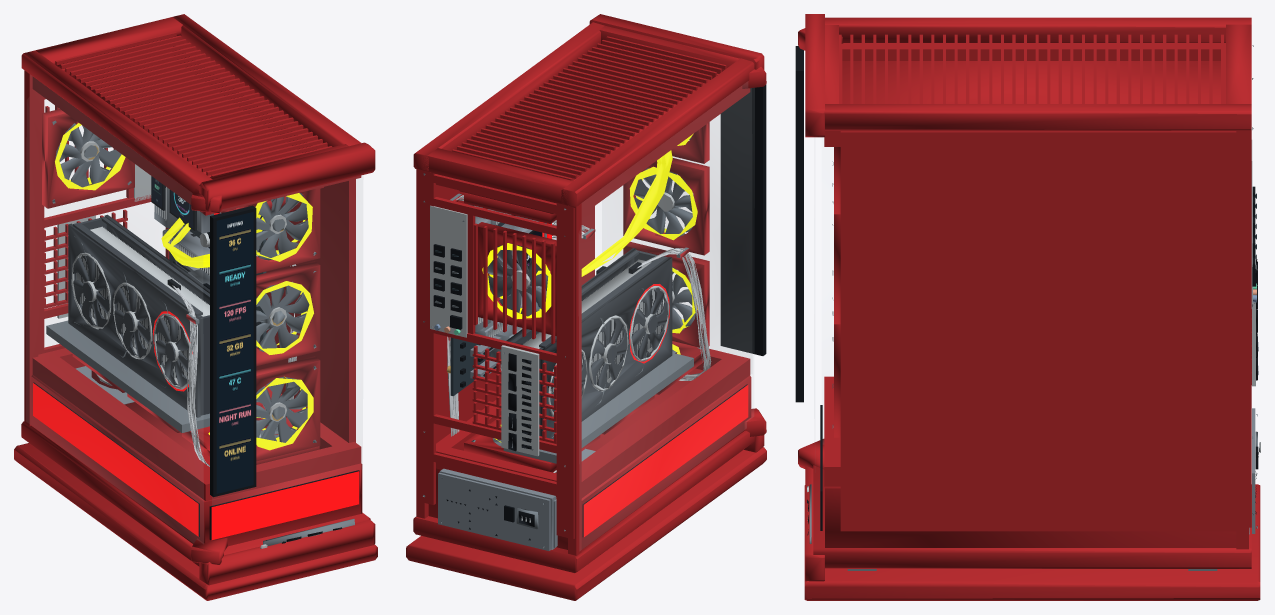
Rendered from display88-inferno.glb.
3 renders of one model, left to right at view 1: azimuth 30°, elevation 25°; view 2: azimuth 150°, elevation 25°; view 3: azimuth 270°, elevation 25°, orthographic. The views are drawn at different scales.
Visible parts, largest first — view 1: s83-surface-51fc9ba0-1fe5-4776-9724-dfc0da7f3cba, s83-surface-54ddc808-bf7c-4199-aeae-895a74d2a820, s83-surface-a512da68-8bdf-4b66-84d2-2f99324f5558, s83-surface-cb61b6f4-cf3e-4b9b-a66b-7c7c9251d378, s83-fan-1, s83-fan-2, s83-surface-f7f7c7cd-a846-41ff-a03b-7536405f7773; view 2: s83-surface-51fc9ba0-1fe5-4776-9724-dfc0da7f3cba, s83-surface-bcb48c46-d35c-497a-858b-b11939c96b49, s83-surface-54ddc808-bf7c-4199-aeae-895a74d2a820, s83-surface-cb61b6f4-cf3e-4b9b-a66b-7c7c9251d378, s83-fan-2; view 3: s83-surface-51fc9ba0-1fe5-4776-9724-dfc0da7f3cba.
Part boxes in pixels (x1,y1,x2,y2): s83-surface-51fc9ba0-1fe5-4776-9724-dfc0da7f3cba: (14, 14, 377, 600); s83-surface-54ddc808-bf7c-4199-aeae-895a74d2a820: (33, 213, 359, 539); s83-surface-a512da68-8bdf-4b66-84d2-2f99324f5558: (216, 212, 253, 493); s83-surface-cb61b6f4-cf3e-4b9b-a66b-7c7c9251d378: (55, 123, 313, 450); s83-fan-1: (73, 255, 111, 329); s83-fan-2: (113, 284, 152, 359); s83-surface-f7f7c7cd-a846-41ff-a03b-7536405f7773: (170, 190, 193, 227); s83-surface-51fc9ba0-1fe5-4776-9724-dfc0da7f3cba: (406, 14, 766, 600); s83-surface-bcb48c46-d35c-497a-858b-b11939c96b49: (602, 88, 752, 374); s83-surface-54ddc808-bf7c-4199-aeae-895a74d2a820: (539, 221, 748, 537); s83-surface-cb61b6f4-cf3e-4b9b-a66b-7c7c9251d378: (482, 133, 697, 442); s83-fan-2: (589, 316, 627, 391); s83-surface-51fc9ba0-1fe5-4776-9724-dfc0da7f3cba: (795, 14, 1260, 600).
Bounding box in the file's own units: 1.37 × 2.99 × 2.57.
Materials: 7 (6 with a texture image).
